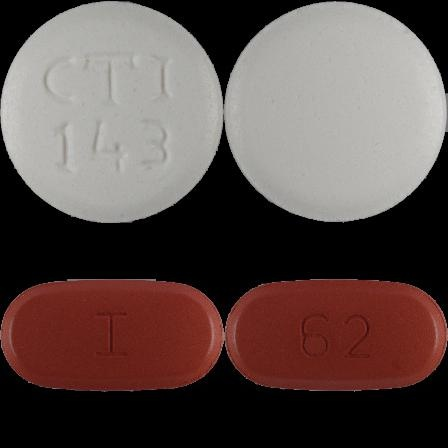61786-966: (0, 0, 224, 224)
